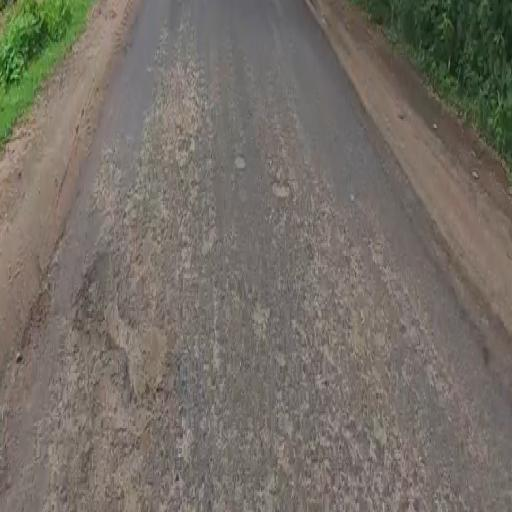ravelling: (63, 156, 451, 508)
